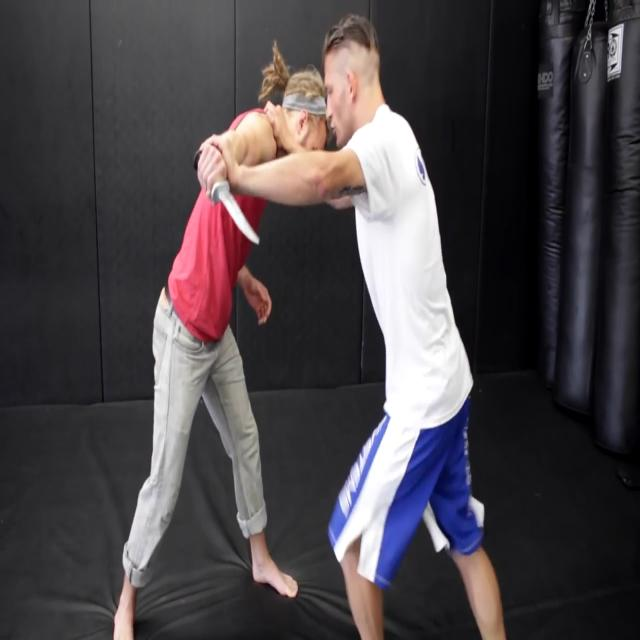knife: (216, 178, 265, 249)
